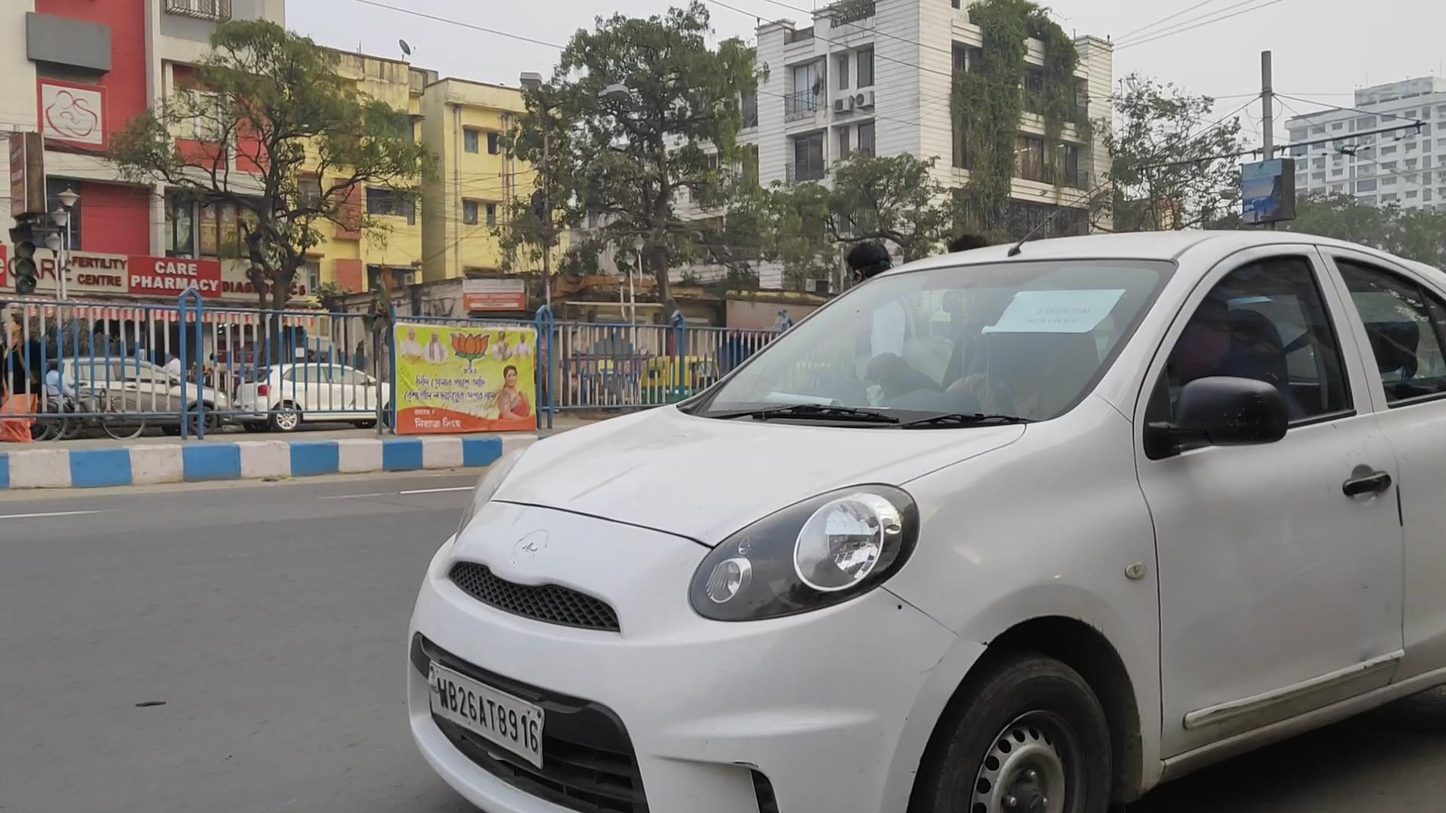car: (405, 226, 1446, 813)
